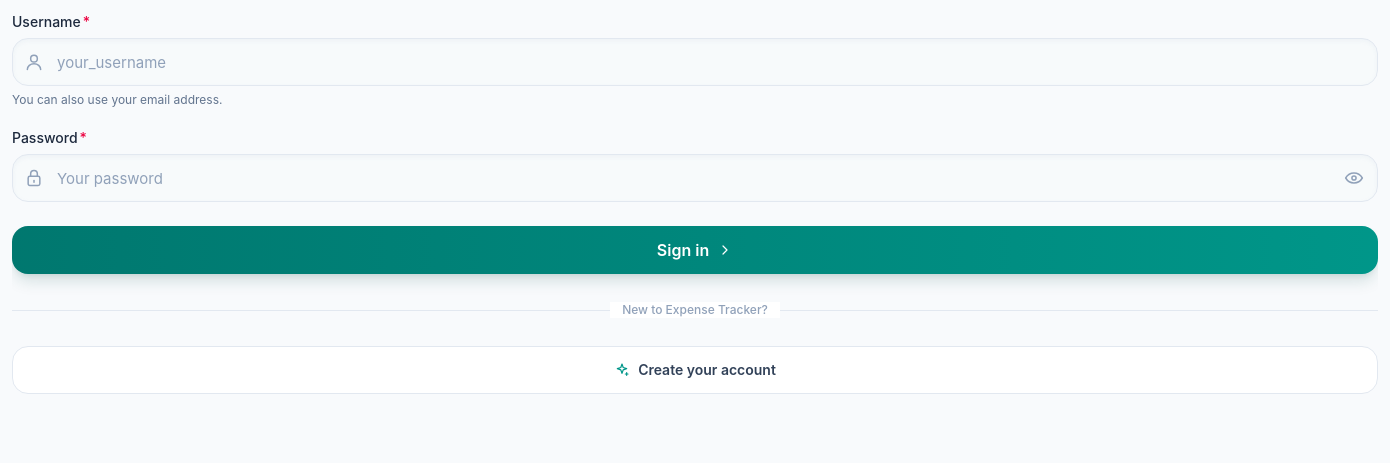
Test: LoginForm › shows inline validation errors and does not submit invalid input
Click the button "Sign in" at [695, 250], box [12,226,1378,274]
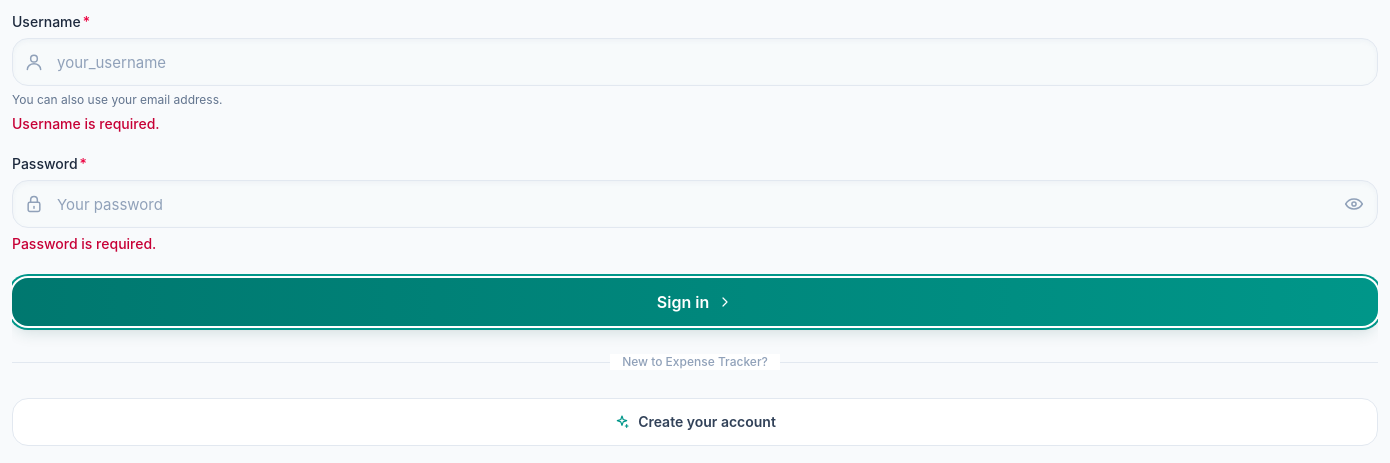
Now the text "Username is required." is shown, box [12,115,160,132]
Now the text "Password is required." is shown, box [12,235,156,252]
